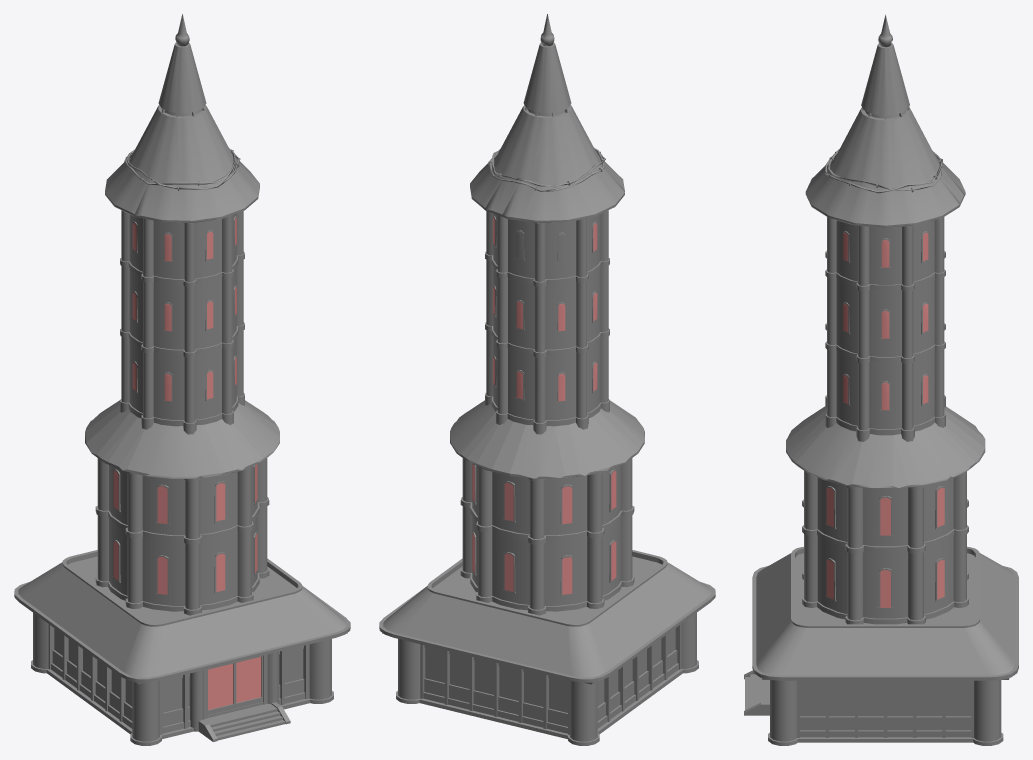
The model's file is SM_ENV_LKNVLD03_CommonBuilding_TowerB.gltf.
3 views of the same model, side by side, from view 1: azimuth 30°, elevation 25°; view 2: azimuth 150°, elevation 25°; view 3: azimuth 270°, elevation 25° (orthographic). The views are drawn at different scales.
Parts seen in each view (by area): view 1: SM_ENV_LKNVLD03_CommonBuilding_TowerB; view 2: SM_ENV_LKNVLD03_CommonBuilding_TowerB; view 3: SM_ENV_LKNVLD03_CommonBuilding_TowerB.
Part boxes in pixels (box(x1,y1,x2,y2)): SM_ENV_LKNVLD03_CommonBuilding_TowerB: box(14, 14, 350, 745); SM_ENV_LKNVLD03_CommonBuilding_TowerB: box(379, 14, 715, 745); SM_ENV_LKNVLD03_CommonBuilding_TowerB: box(744, 14, 1018, 745).
Bounding box in the file's own units: 20.1 × 56.73 × 20.72.
